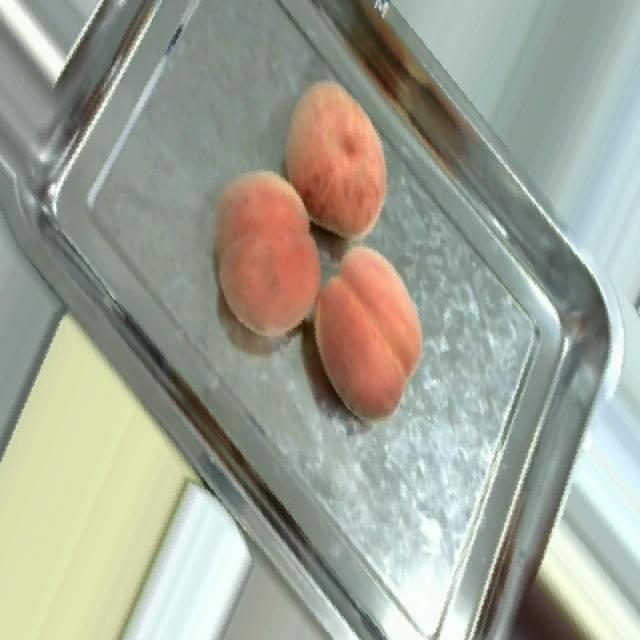Fruit: (1, 288, 227, 640), (177, 145, 351, 364), (284, 229, 445, 439), (263, 64, 412, 256)
